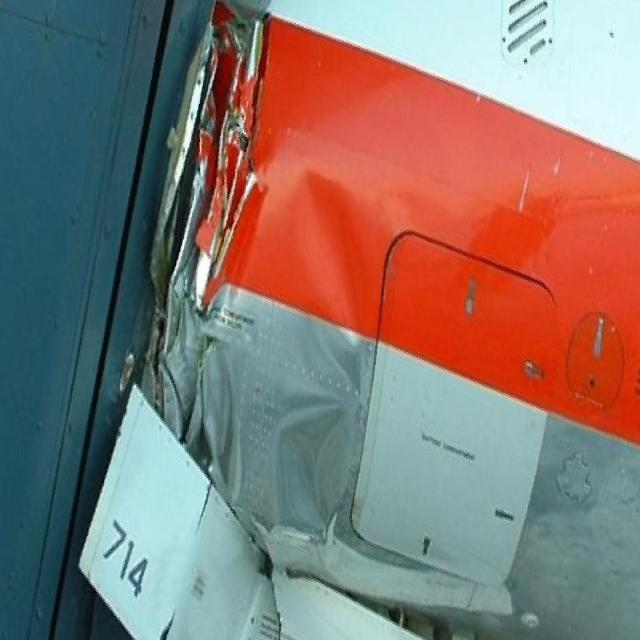dent: (274, 157, 368, 543)
